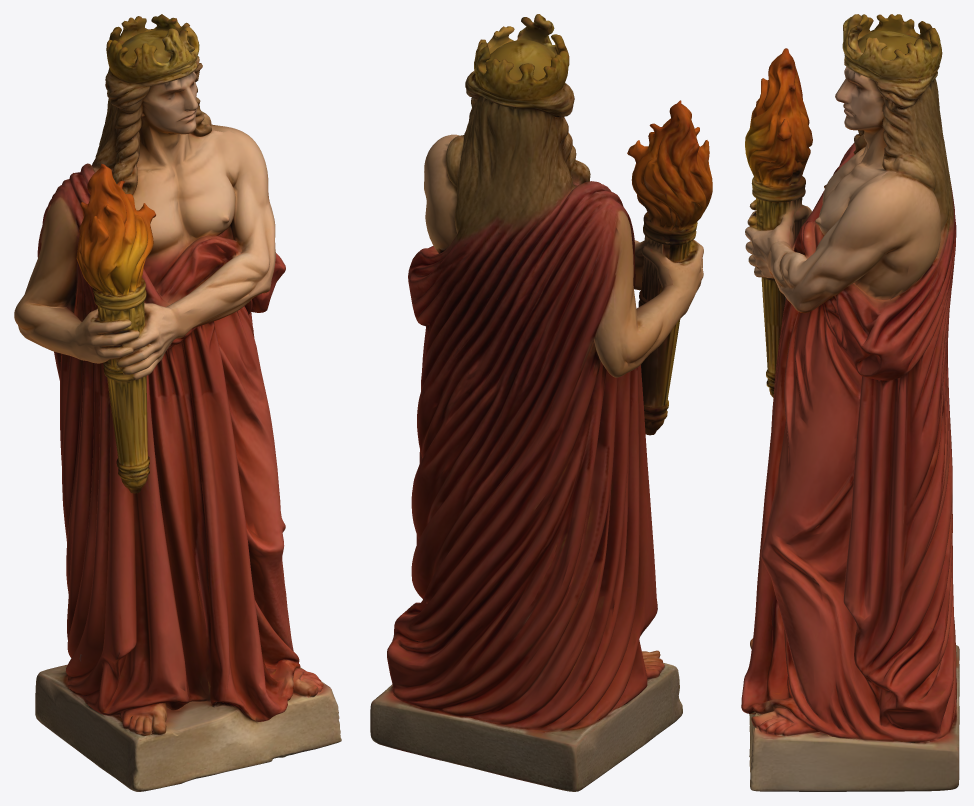
Rendered from prometheus.glb.
3 views of the same model, side by side, from view 1: azimuth 30°, elevation 25°; view 2: azimuth 150°, elevation 25°; view 3: azimuth 270°, elevation 25° (orthographic). The views are drawn at different scales.
Parts seen in each view (by area): view 1: node_0; view 2: node_0; view 3: node_0.
Boxes of the visible parts, box(x1,y1,x2,y2) form: node_0: box(14, 14, 341, 791); node_0: box(370, 14, 712, 791); node_0: box(741, 14, 959, 791).
Size of the model in its own units: 0.4109 by 1.11 by 0.3033.
Materials: 1 (1 with a texture image).
